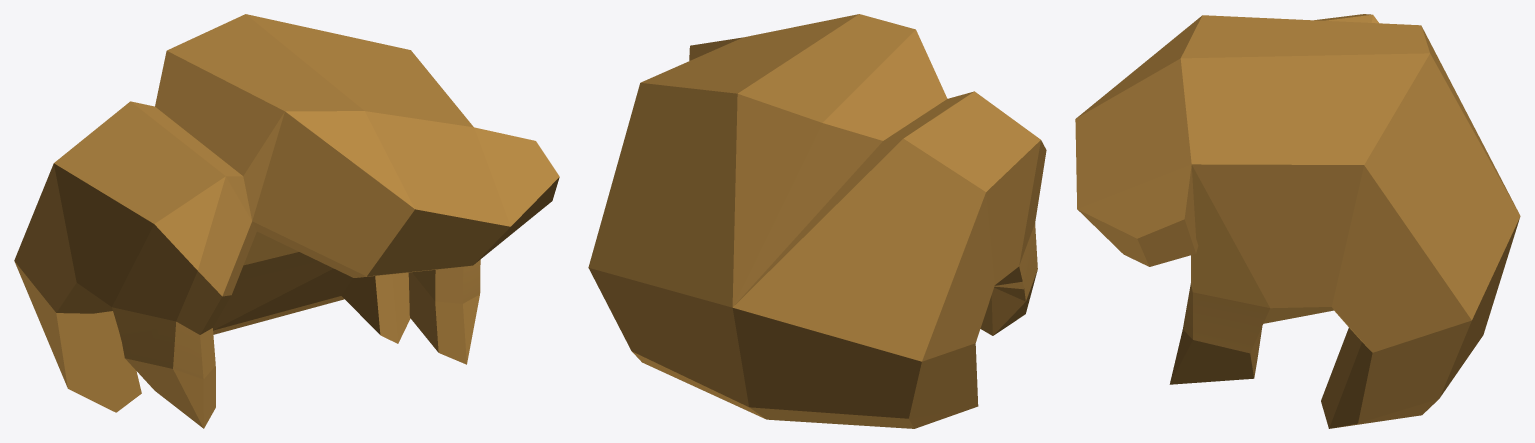
Rendered from SM_Chr_Attach_Male_Hair_01.fbx.
3 views of the same model, side by side, from view 1: azimuth 30°, elevation 25°; view 2: azimuth 150°, elevation 25°; view 3: azimuth 270°, elevation 25° (orthographic). The views are drawn at different scales.
Visible parts, largest first — view 1: SM_Chr_Attach_Male_Hair_01; view 2: SM_Chr_Attach_Male_Hair_01; view 3: SM_Chr_Attach_Male_Hair_01.
Boxes of the visible parts, box(x1,y1,x2,y2) form: SM_Chr_Attach_Male_Hair_01: box(14, 14, 559, 428); SM_Chr_Attach_Male_Hair_01: box(588, 14, 1046, 428); SM_Chr_Attach_Male_Hair_01: box(1075, 14, 1520, 428).
Size of the model in its own units: 0.3043 by 0.2384 by 0.292.
